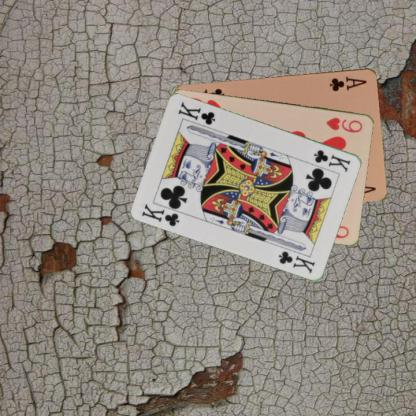9h: (324, 114, 364, 134)
Ac: (327, 74, 368, 92)
Kc: (139, 200, 181, 228), (311, 147, 352, 173)
